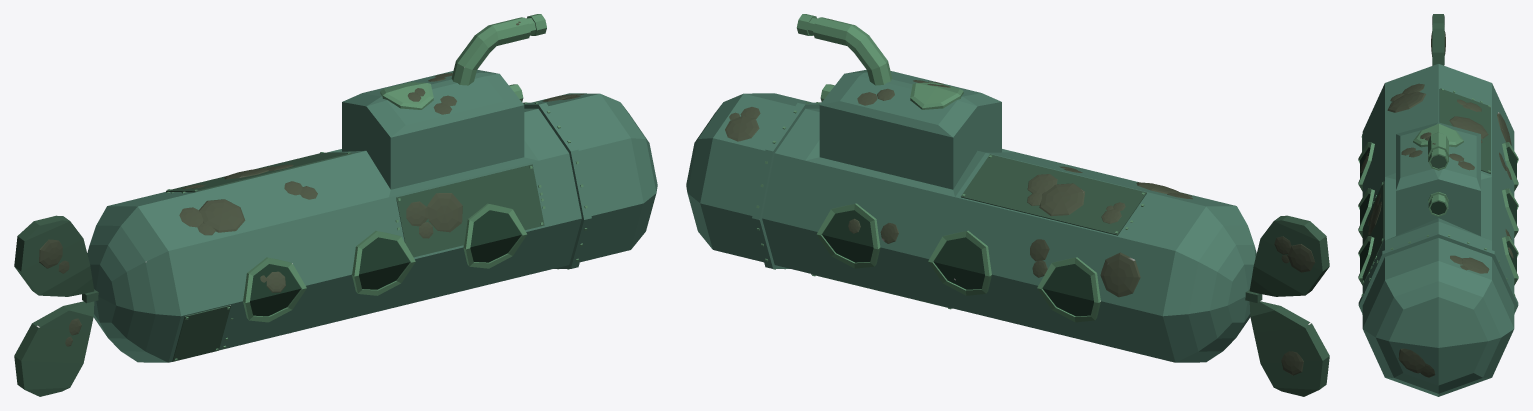
File: SubmergedSubmarine.fbx
3 renders of one model, left to right at view 1: azimuth 30°, elevation 25°; view 2: azimuth 150°, elevation 25°; view 3: azimuth 270°, elevation 25°, orthographic. The views are drawn at different scales.
Visible parts, largest first — view 1: SubmergedSubmarine, SubmergedSubmarinePropeller, SubmergedSubmarinePeriscope; view 2: SubmergedSubmarine, SubmergedSubmarinePropeller, SubmergedSubmarinePeriscope; view 3: SubmergedSubmarine, SubmergedSubmarinePeriscope, SubmergedSubmarinePropeller.
Part boxes in pixels (x1,y1,x2,y2): SubmergedSubmarine: [87, 70, 657, 362]; SubmergedSubmarinePropeller: [14, 215, 98, 396]; SubmergedSubmarinePeriscope: [451, 14, 546, 85]; SubmergedSubmarine: [686, 69, 1256, 362]; SubmergedSubmarinePropeller: [1245, 215, 1329, 396]; SubmergedSubmarinePeriscope: [796, 14, 892, 85]; SubmergedSubmarine: [1358, 64, 1518, 396]; SubmergedSubmarinePeriscope: [1428, 132, 1448, 170]; SubmergedSubmarinePropeller: [1431, 14, 1445, 65].
Bounding box in the file's own units: 2324 × 914 × 589.
